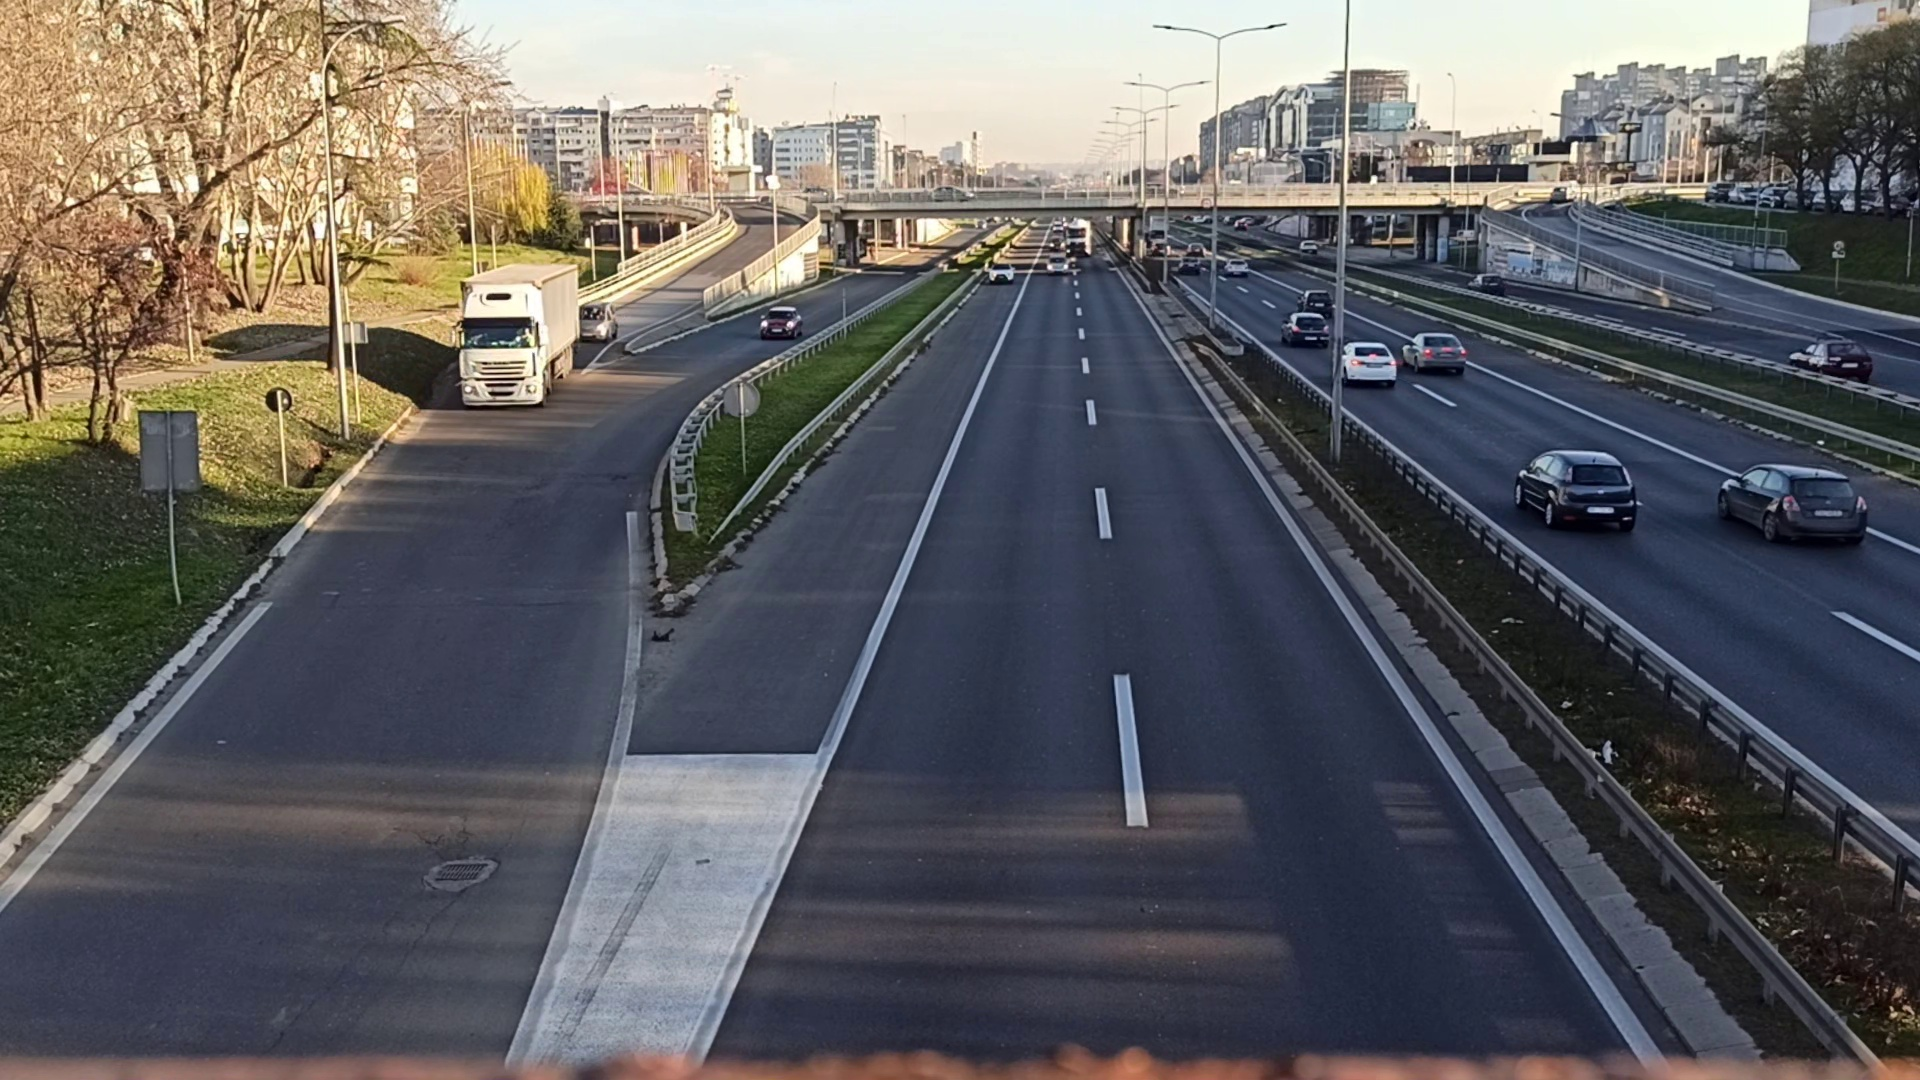car: (1716, 463, 1870, 551), (1514, 446, 1639, 534), (1403, 332, 1468, 375), (1337, 342, 1396, 384), (575, 305, 618, 343), (1282, 313, 1329, 344), (760, 305, 802, 339)
truck: (460, 262, 582, 407)
